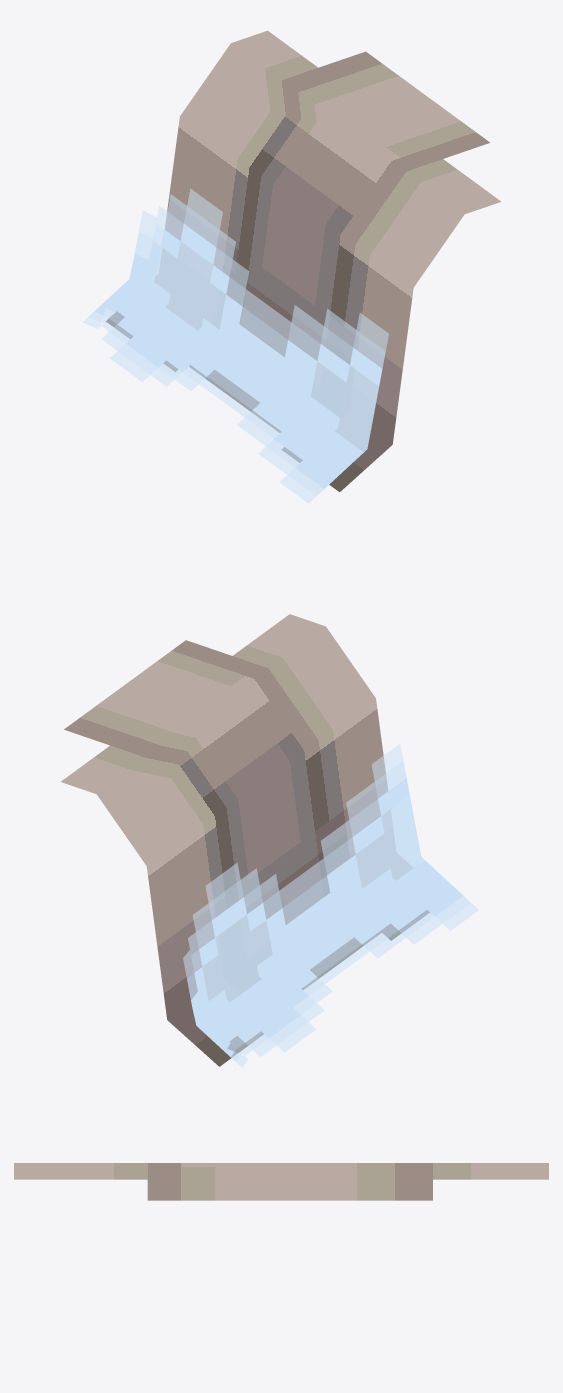
The picture shows the model from 3 angles, top to bottom: view 1: azimuth 30°, elevation 25°; view 2: azimuth 150°, elevation 25°; view 3: azimuth 270°, elevation 25°; orthographic projection. The views are drawn at different scales.
Bounding box in the file's own units: 0.7705 × 0.7266 × 1.
Materials: 2 (2 with a texture image).
